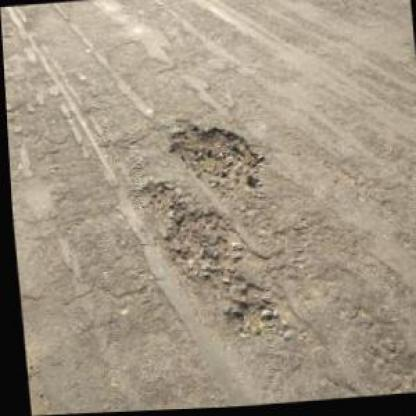pothole: (134, 175, 284, 349), (164, 115, 266, 203)
